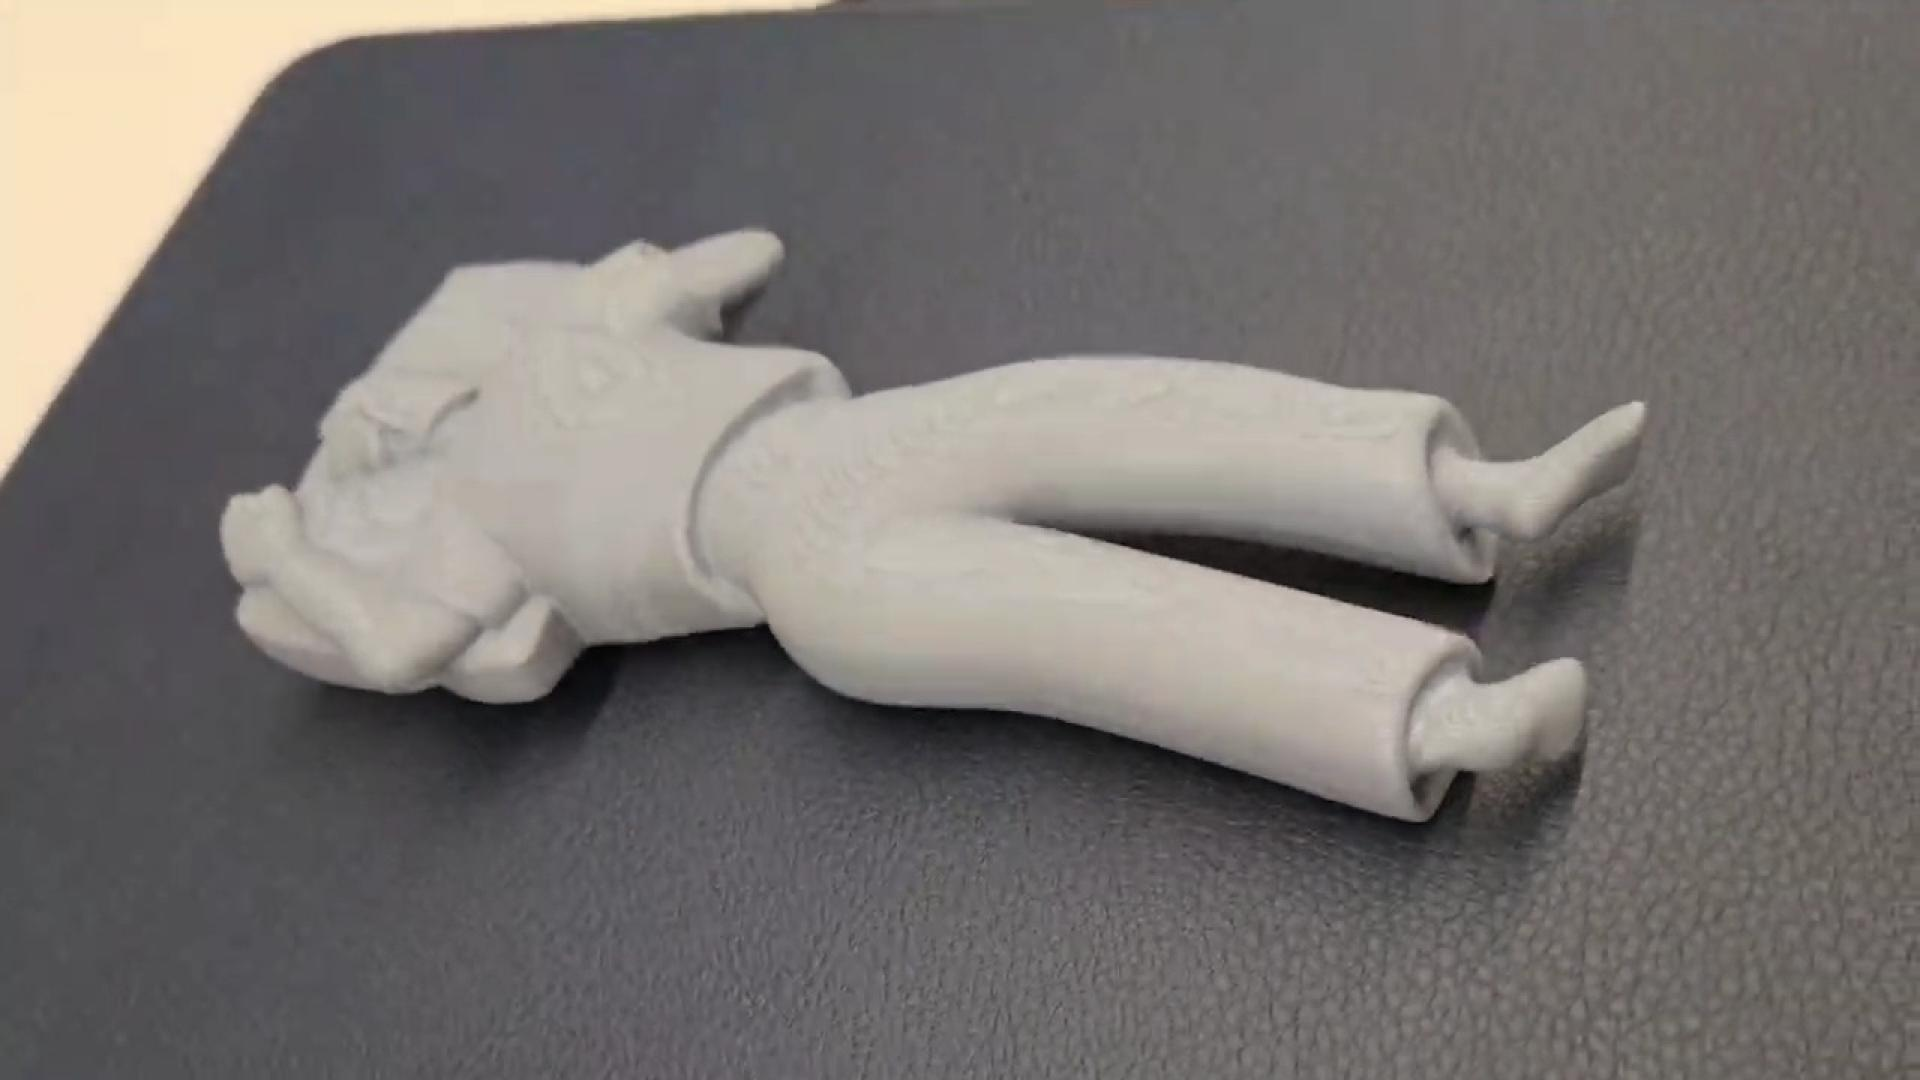Bad-style: (220, 229, 1651, 828)
